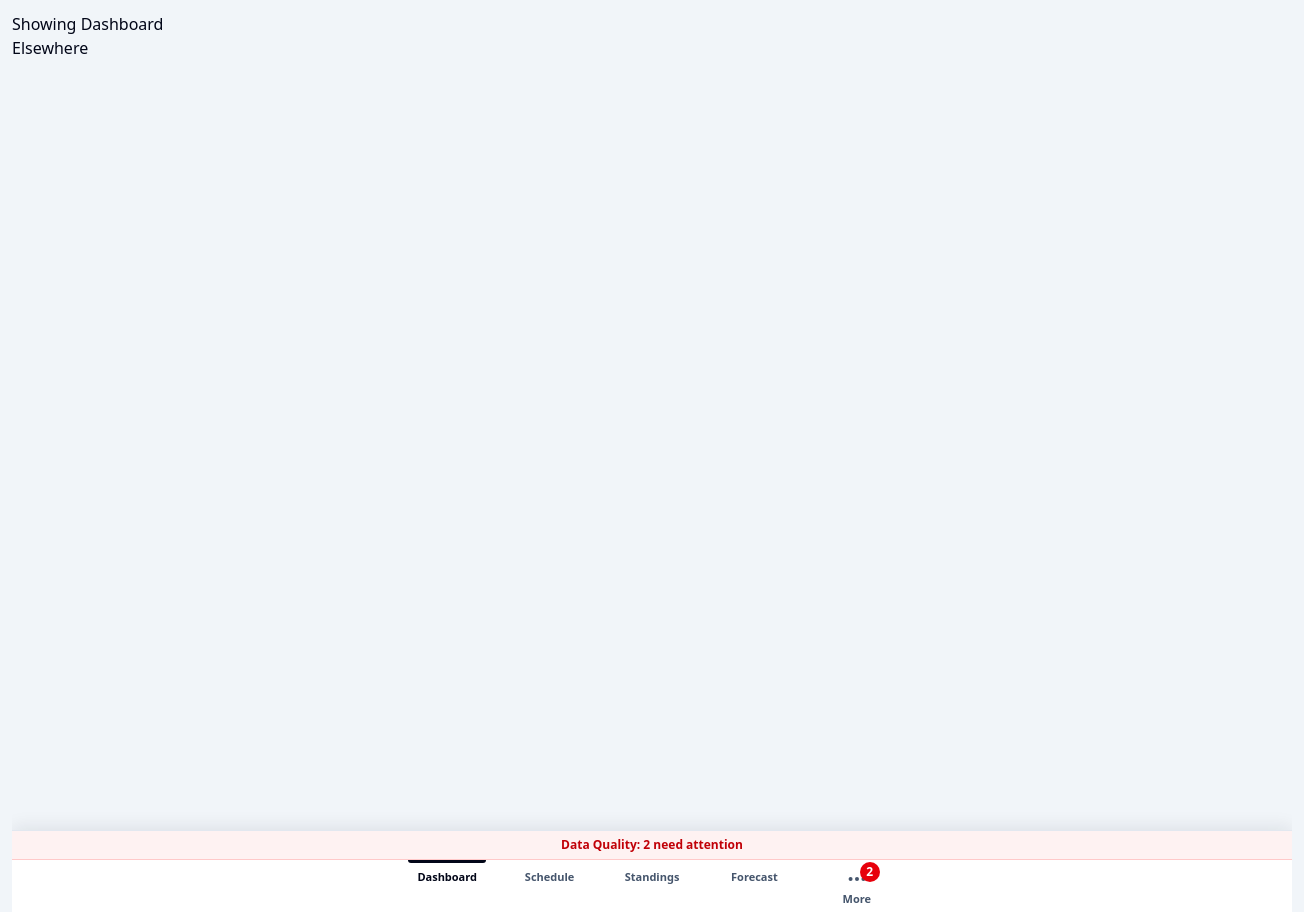
the tab row on a phone › shows a view under More whose badge is urgent across the top of the bar
This screenshot has width=1304, height=912.
Click the button "Data Quality: 2 need attention": (652,846) [12, 831, 1292, 860]
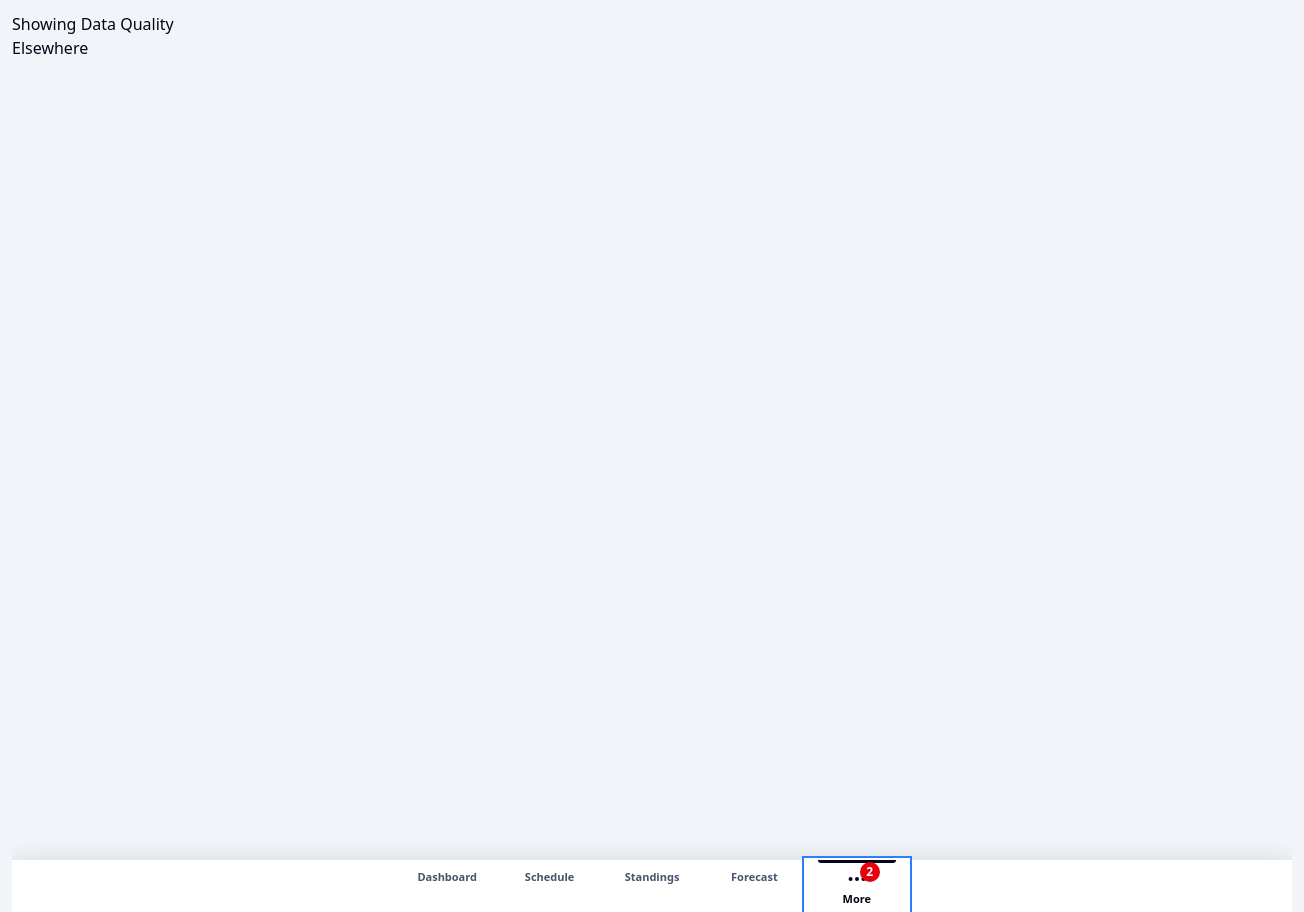
Now the text "Showing Data Quality" is shown, box [12, 13, 174, 35]
Now the button "Data Quality: 2 need attention" is gone
